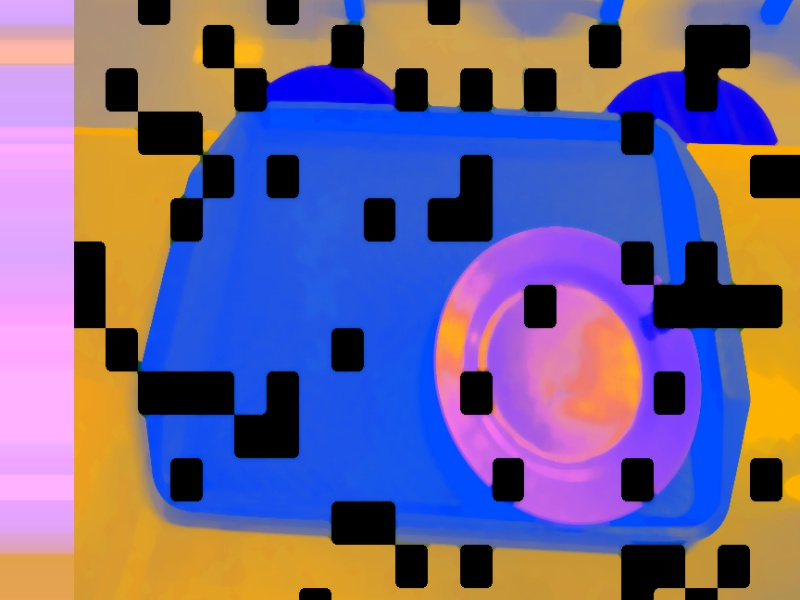dish10: (428, 222, 701, 528)
